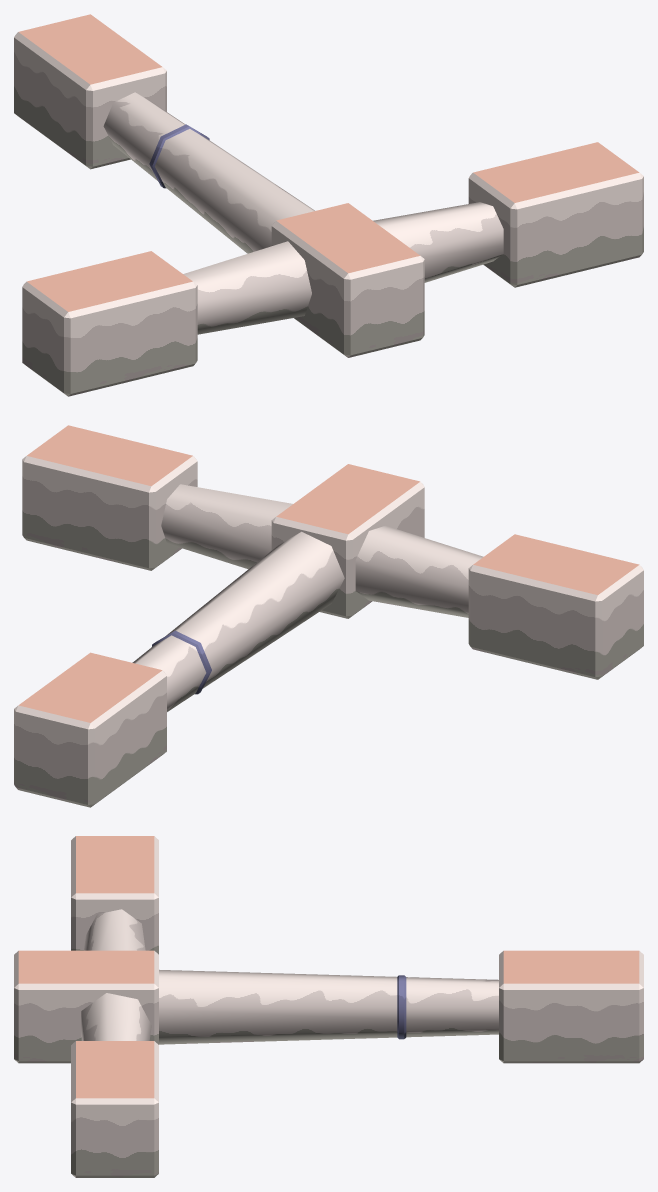
The model's file is R4C_ROD_T_LOD1.glb.
The picture shows the model from 3 angles, top to bottom: view 1: azimuth 30°, elevation 25°; view 2: azimuth 150°, elevation 25°; view 3: azimuth 270°, elevation 25°; orthographic projection. The views are drawn at different scales.
Parts seen in each view (by area): view 1: R4C_ROD_T_LOD1; view 2: R4C_ROD_T_LOD1; view 3: R4C_ROD_T_LOD1.
Part boxes in pixels (<box>): R4C_ROD_T_LOD1: <box>14,14,643,396</box>; R4C_ROD_T_LOD1: <box>14,425,643,807</box>; R4C_ROD_T_LOD1: <box>14,836,643,1177</box>.
Size of the model in its own units: 1.62 by 0.226 by 1.62.
3 materials, 3 textured.
